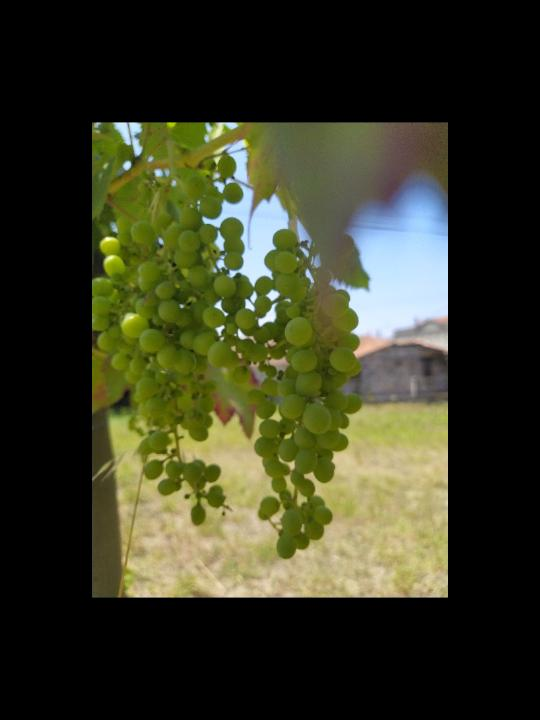grape: (96, 153, 254, 527), (252, 227, 364, 562)
